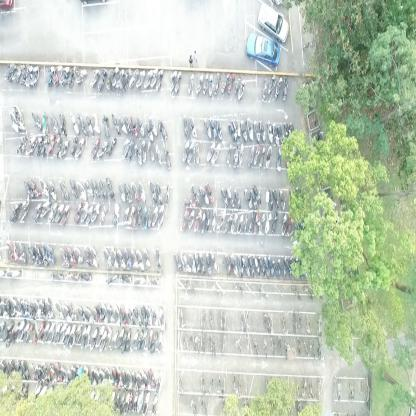car: (257, 1, 290, 43), (245, 33, 281, 68)
